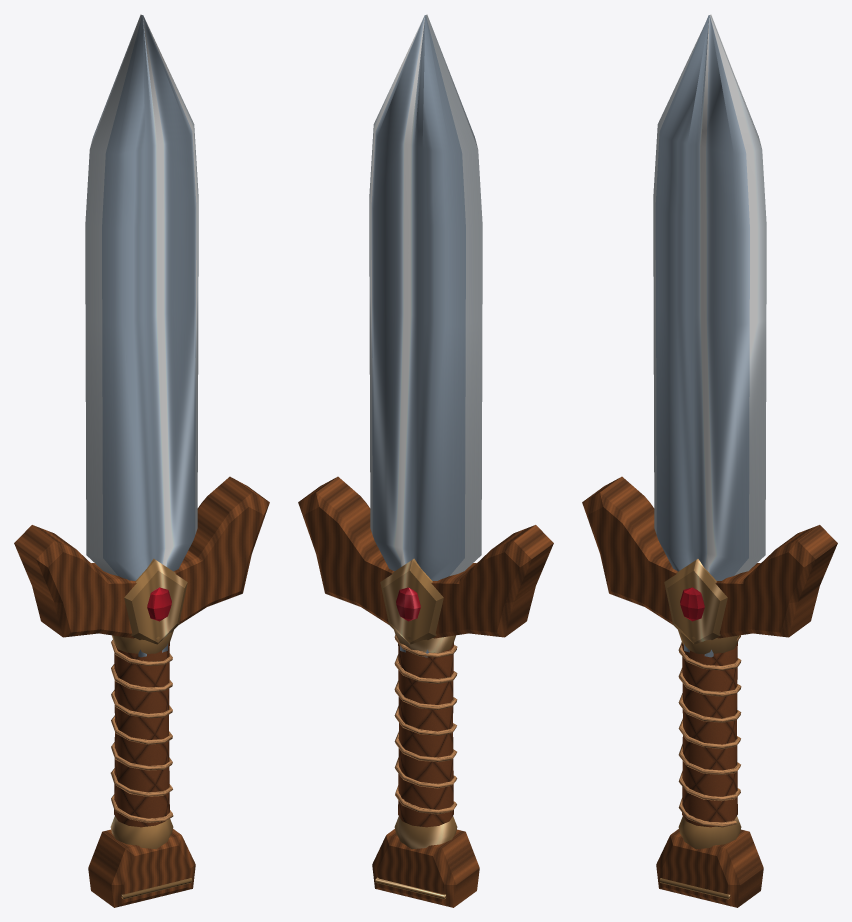
The model's file is kokiri_sword.glb.
3 renders of one model, left to right at view 1: azimuth 30°, elevation 25°; view 2: azimuth 150°, elevation 25°; view 3: azimuth 330°, elevation 25°, orthographic.
Parts seen in each view (by area): view 1: OoT Kokiri forged blade fuller face (×6), OoT Kokiri forged blade cutting bevel (×4), Carved walnut Kokiri crossguard (×2), Shaped oval leather grip, Walnut flared Kokiri pommel, Kokiri central bronze gemstone mount, Raised diagonal leather wrap, Kokiri bronze pommel collar, Kokiri bronze upper ferrule, Faceted inset gemstone; view 2: OoT Kokiri forged blade fuller face (×6), OoT Kokiri forged blade cutting bevel (×4), Carved walnut Kokiri crossguard (×2), Shaped oval leather grip, Walnut flared Kokiri pommel, Kokiri central bronze gemstone mount, Raised diagonal leather wrap, Kokiri bronze pommel collar, Kokiri bronze upper ferrule, Faceted inset gemstone; view 3: OoT Kokiri forged blade fuller face (×6), OoT Kokiri forged blade cutting bevel (×4), Carved walnut Kokiri crossguard (×2), Shaped oval leather grip, Walnut flared Kokiri pommel, Kokiri central bronze gemstone mount, Raised diagonal leather wrap, Kokiri bronze pommel collar, Kokiri bronze upper ferrule, Faceted inset gemstone.
Part boxes in pixels (box(x1,y1,x2,y2)): OoT Kokiri forged blade fuller face (×6): box(114, 16, 194, 657); OoT Kokiri forged blade cutting bevel (×4): box(85, 15, 198, 657); Carved walnut Kokiri crossguard (×2): box(14, 476, 269, 638); Shaped oval leather grip: box(114, 643, 169, 827); Walnut flared Kokiri pommel: box(88, 829, 195, 907); Kokiri central bronze gemstone mount: box(124, 558, 187, 644); Raised diagonal leather wrap: box(110, 640, 173, 822); Kokiri bronze pommel collar: box(110, 816, 173, 849); Kokiri bronze upper ferrule: box(112, 630, 173, 653); Faceted inset gemstone: box(147, 587, 171, 621); OoT Kokiri forged blade fuller face (×6): box(373, 16, 453, 657); OoT Kokiri forged blade cutting bevel (×4): box(369, 15, 482, 657); Carved walnut Kokiri crossguard (×2): box(298, 476, 553, 638); Shaped oval leather grip: box(398, 643, 453, 827); Walnut flared Kokiri pommel: box(372, 829, 479, 907); Kokiri central bronze gemstone mount: box(380, 558, 443, 644); Raised diagonal leather wrap: box(394, 635, 457, 814); Kokiri bronze pommel collar: box(394, 816, 457, 849); Kokiri bronze upper ferrule: box(394, 630, 455, 653); Faceted inset gemstone: box(396, 587, 420, 621); OoT Kokiri forged blade fuller face (×6): box(657, 16, 737, 657); OoT Kokiri forged blade cutting bevel (×4): box(653, 15, 766, 657); Carved walnut Kokiri crossguard (×2): box(582, 476, 837, 638); Shaped oval leather grip: box(682, 643, 737, 827); Walnut flared Kokiri pommel: box(656, 829, 763, 907); Kokiri central bronze gemstone mount: box(664, 559, 727, 644); Raised diagonal leather wrap: box(678, 635, 741, 827); Kokiri bronze pommel collar: box(678, 816, 741, 849); Kokiri bronze upper ferrule: box(678, 630, 739, 654); Faceted inset gemstone: box(680, 587, 704, 621).
Size of the model in its own units: 17.16 by 61.37 by 5.53.
Materials: 7 (7 with a texture image).
